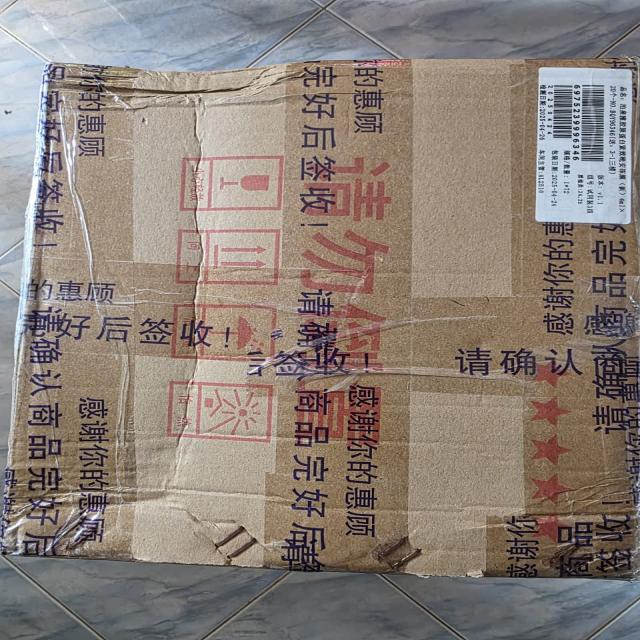carton_box: (3, 39, 640, 601)
export_mark_label: (526, 58, 640, 234)
fragile_label: (172, 146, 300, 222)
keep_dry_label: (160, 294, 297, 373)
package_damage: (27, 48, 250, 99)
protect_from_heat_label: (152, 368, 312, 460)
this_side_up_label: (170, 218, 303, 298)
